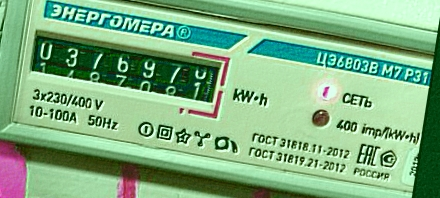0: (37, 37, 54, 61)
1: (190, 79, 203, 101)
3: (64, 46, 81, 69)
6: (115, 50, 133, 75)
7: (89, 47, 107, 73), (166, 61, 184, 86)
9: (140, 56, 157, 80)
screen: (18, 16, 236, 123)
